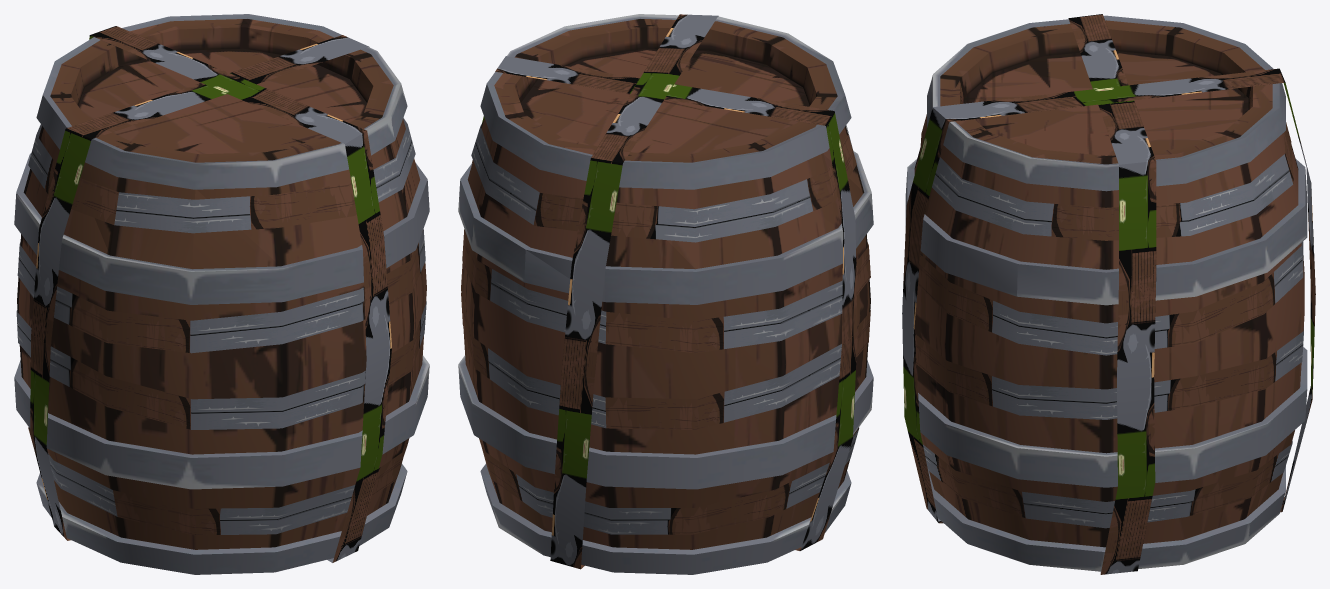
The model's file is Wine_Barrel.FBX.
The picture shows the model from 3 angles, left to right: view 1: azimuth 30°, elevation 25°; view 2: azimuth 150°, elevation 25°; view 3: azimuth 270°, elevation 25°; orthographic projection.
Parts seen in each view (by area): view 1: owl_brew_barrel; view 2: owl_brew_barrel; view 3: owl_brew_barrel.
Part boxes in pixels (x1,y1,x2,y2): owl_brew_barrel: (14, 14, 429, 574); owl_brew_barrel: (458, 14, 873, 574); owl_brew_barrel: (902, 14, 1315, 574).
Bounding box in the file's own units: 68.37 × 74.3 × 68.06.
